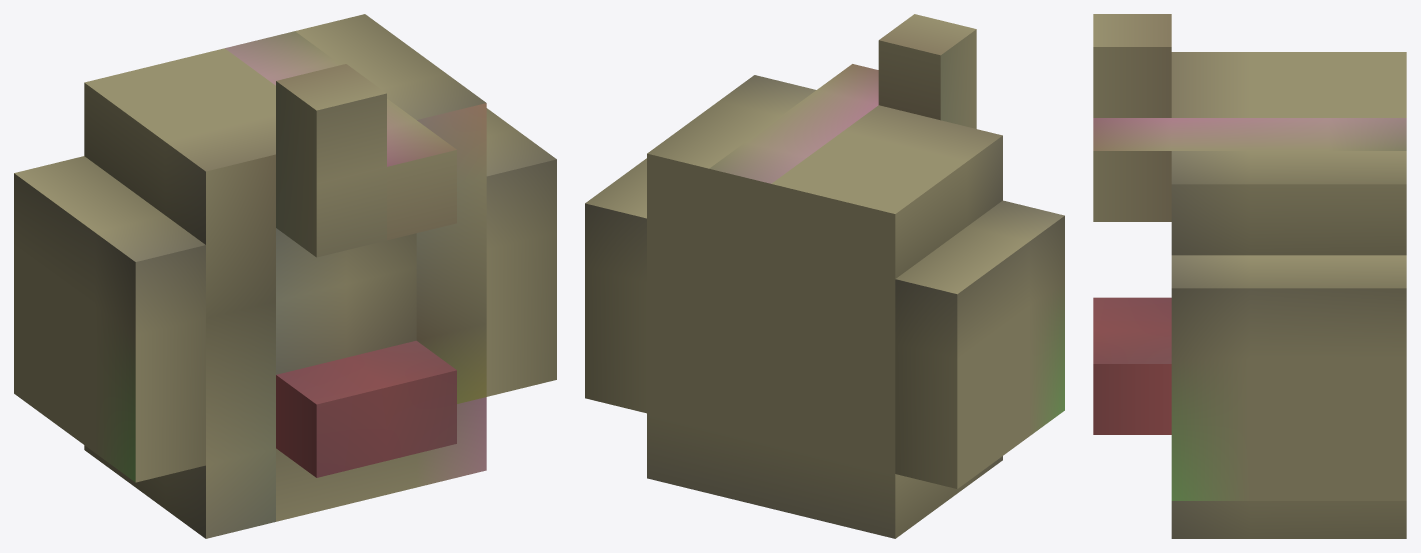
Rendered from Dolls_B_00.fbx.
The picture shows the model from 3 angles, left to right: view 1: azimuth 30°, elevation 25°; view 2: azimuth 150°, elevation 25°; view 3: azimuth 270°, elevation 25°; orthographic projection. The views are drawn at different scales.
Visible parts, largest first — view 1: Dolls_B_00; view 2: Dolls_B_00; view 3: Dolls_B_00.
Boxes of the visible parts, x1,y1,x2,y2 form: Dolls_B_00: [14, 14, 556, 538]; Dolls_B_00: [585, 14, 1064, 538]; Dolls_B_00: [1093, 14, 1406, 538].
Size of the model in its own units: 30 by 30 by 20.
